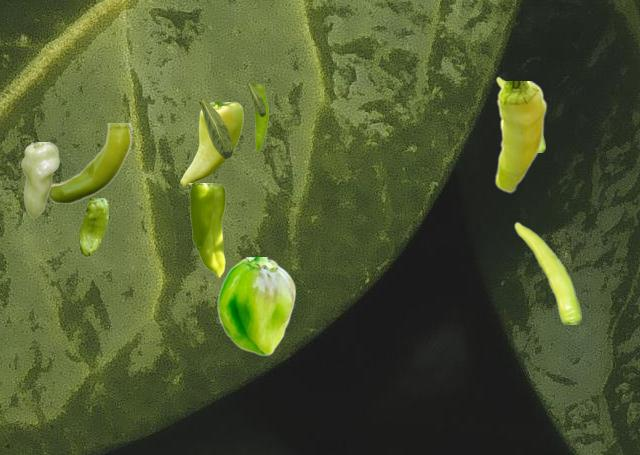green_chili: (217, 257, 295, 355), (514, 221, 580, 323), (48, 123, 132, 202), (494, 81, 546, 192), (180, 102, 242, 186), (496, 76, 544, 151), (188, 183, 224, 276), (20, 142, 58, 217), (78, 198, 107, 255), (252, 84, 267, 150)
